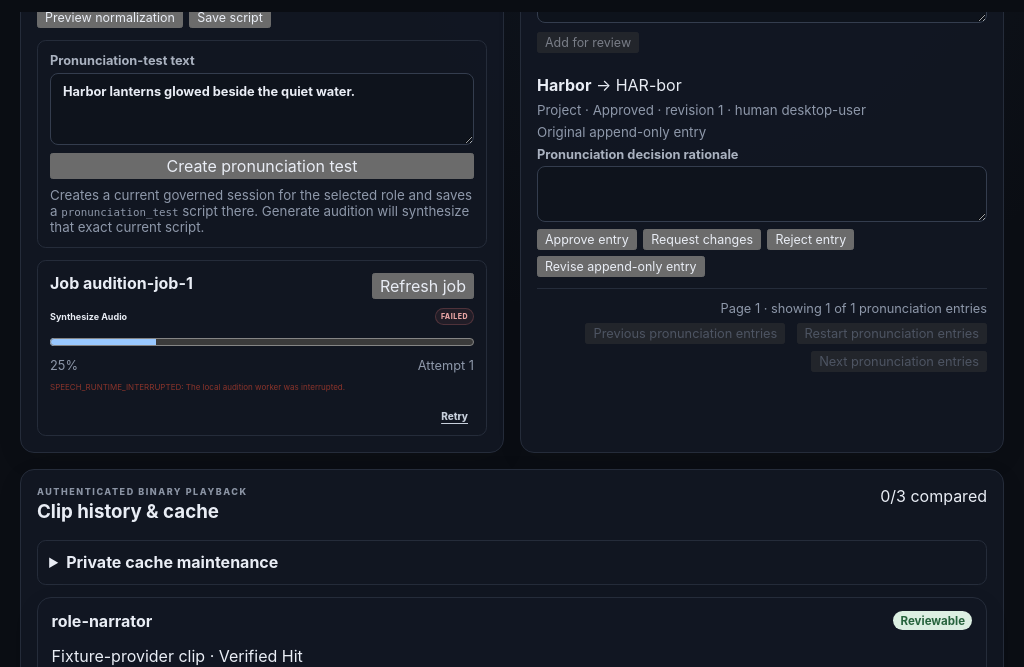
Test: AuditionsWorkspace › renders current audition job evidence and handles retry with a bounded refresh
This screenshot has width=1024, height=667.
(page scrolled)
Expected: the text "Synthesize Audio" is shown, [50, 311, 127, 322]
Expected: the text "25%" is shown, [50, 358, 78, 374]
Click the button "Retry" at coordinates (455, 416), box [435, 409, 474, 423]
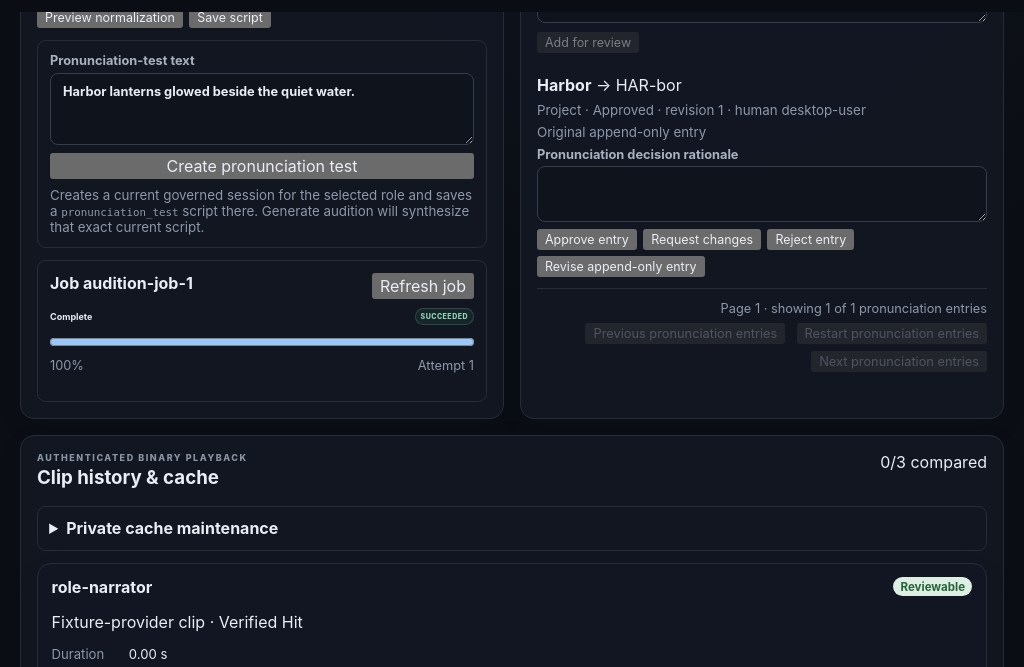
Result: the text "Succeeded" is shown at [414, 308, 474, 325]
